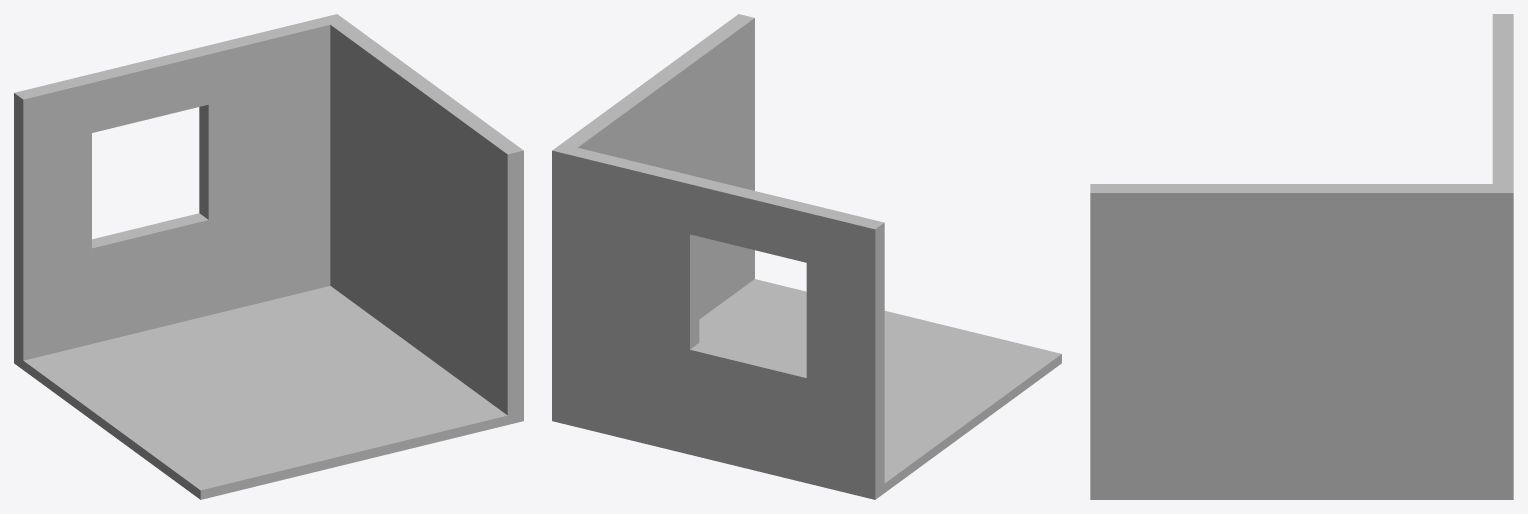
Rendered from Wall_6.fbx.
3 views of the same model, side by side, from view 1: azimuth 30°, elevation 25°; view 2: azimuth 150°, elevation 25°; view 3: azimuth 270°, elevation 25° (orthographic). The views are drawn at different scales.
Visible parts, largest first — view 1: Wall_6; view 2: Wall_6; view 3: Wall_6.
Part boxes in pixels (x1=…): Wall_6: x1=14, y1=14, x2=523, y2=499; Wall_6: x1=552, y1=14, x2=1061, y2=499; Wall_6: x1=1090, y1=14, x2=1513, y2=499.
Size of the model in its own units: 3.8 by 3.04 by 3.8.
